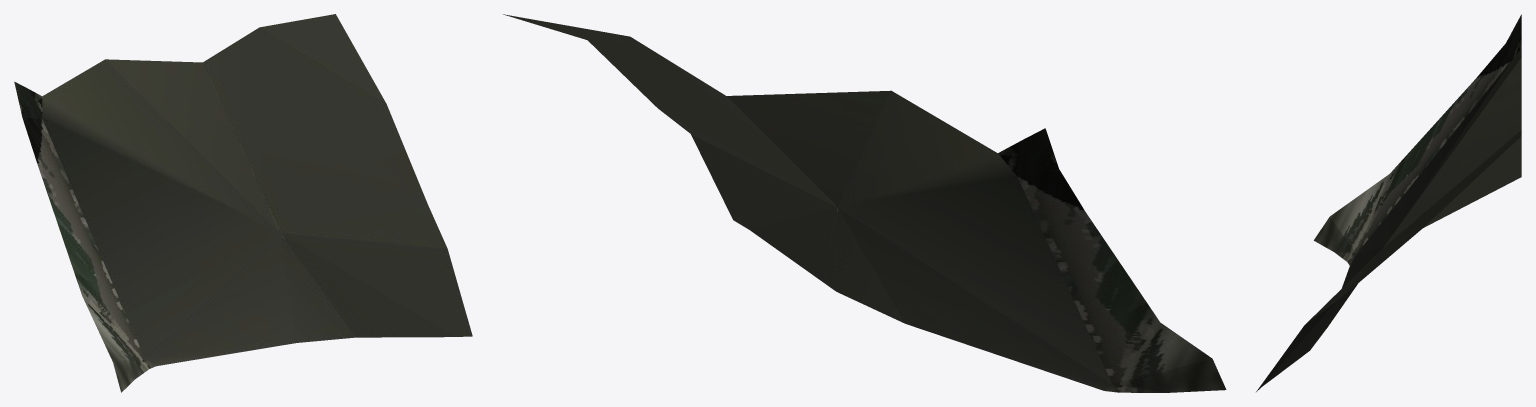
The picture shows the model from 3 angles, left to right: view 1: azimuth 30°, elevation 25°; view 2: azimuth 150°, elevation 25°; view 3: azimuth 270°, elevation 25°; orthographic projection. The views are drawn at different scales.
Size of the model in its own units: 2.95 by 2.04 by 2.18.
Materials: 2 (2 with a texture image).
